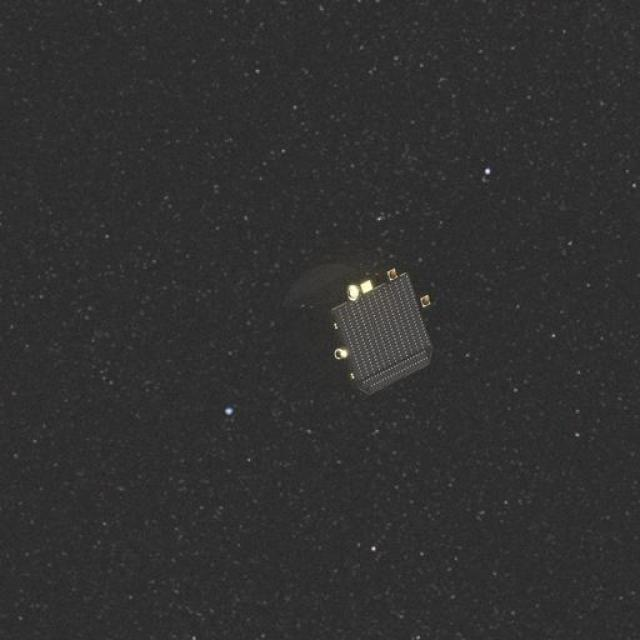proba_3_ocs: (280, 241, 462, 408)
